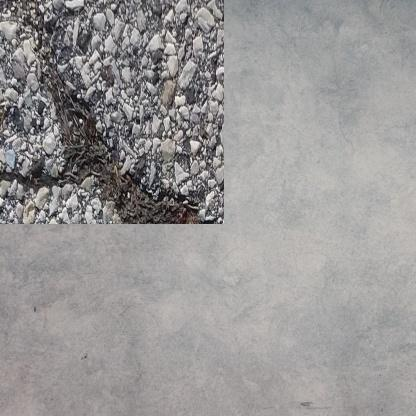Cracks: (0, 0, 207, 207)
